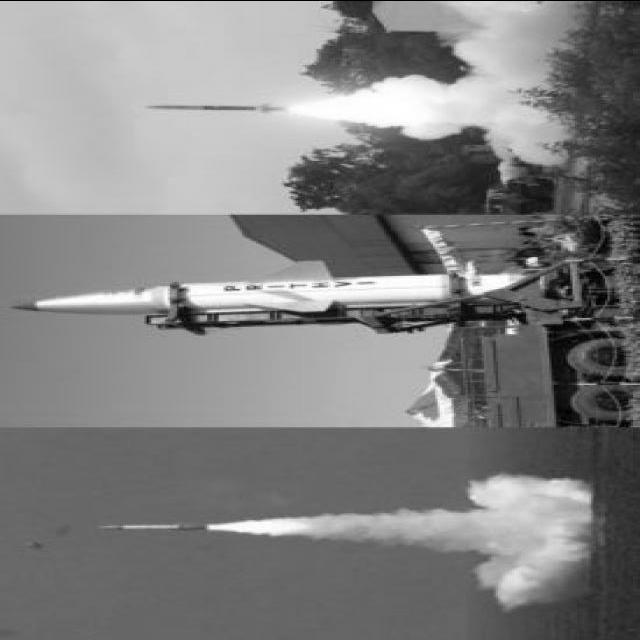missile: (5, 268, 512, 316), (145, 93, 290, 119), (95, 517, 215, 534)
